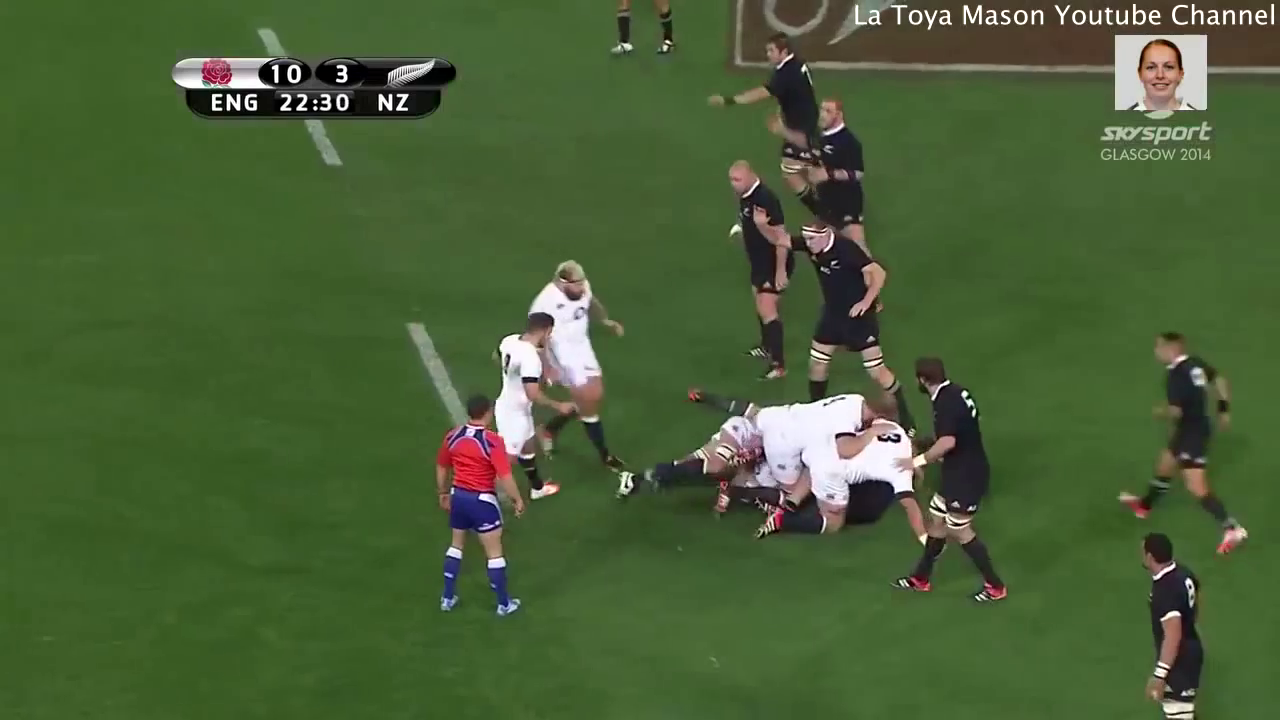player: (746, 201, 923, 434), (877, 351, 1024, 626), (1107, 319, 1265, 559), (404, 385, 538, 628), (673, 378, 896, 515), (523, 260, 632, 478), (1114, 515, 1228, 720), (470, 309, 574, 520), (708, 150, 796, 394), (759, 90, 881, 266), (701, 25, 839, 173), (604, 1, 683, 58)
ruck: (614, 370, 938, 552)
